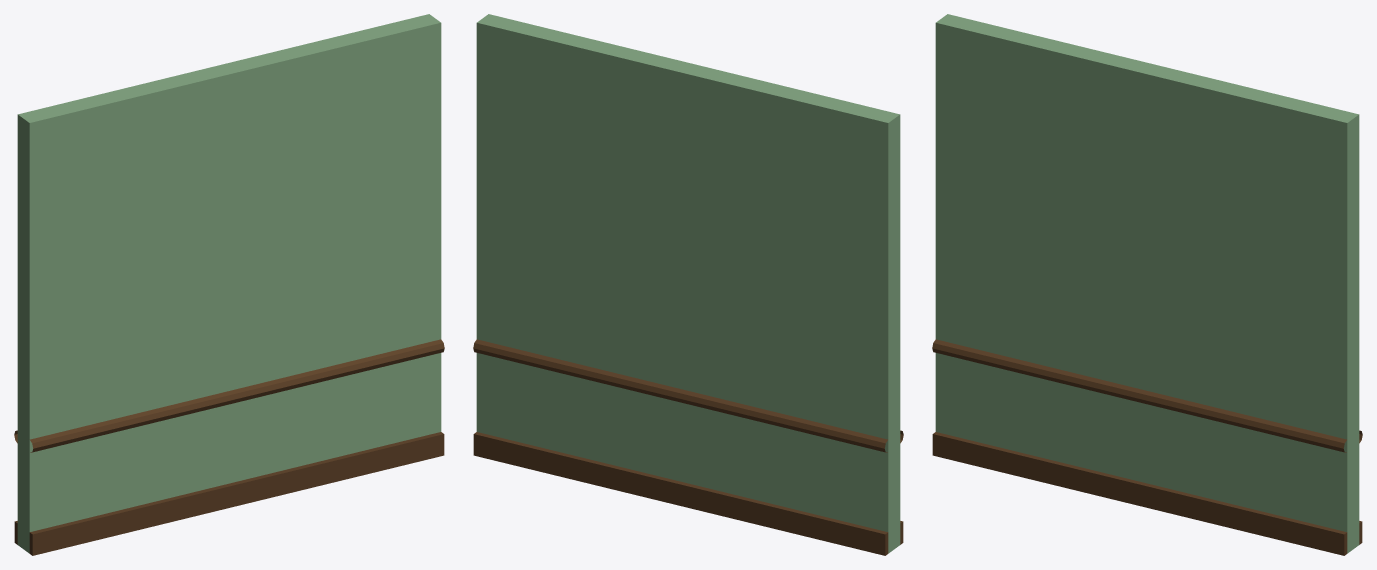
Rendered from h_wall_2_4.fbx.
The picture shows the model from 3 angles, left to right: view 1: azimuth 30°, elevation 25°; view 2: azimuth 150°, elevation 25°; view 3: azimuth 330°, elevation 25°; orthographic projection.
Visible parts, largest first — view 1: Cube; view 2: Cube; view 3: Cube.
Boxes of the visible parts, box(x1,y1,x2,y2) form: Cube: box(14, 14, 444, 555); Cube: box(473, 14, 903, 555); Cube: box(932, 14, 1362, 555).
Size of the model in its own units: 400 by 400 by 32.
